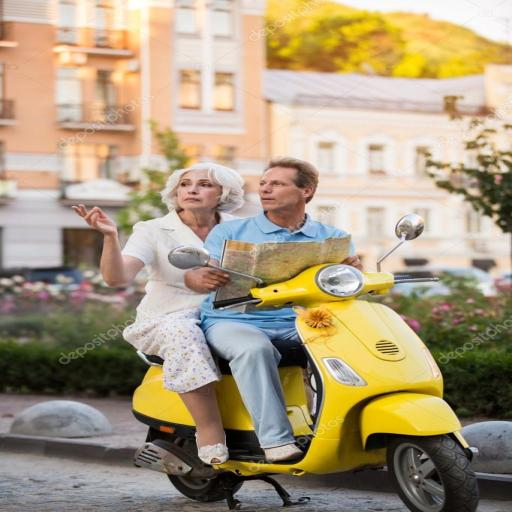helmet: (158, 162, 246, 214)
overloading: (126, 213, 480, 510)
